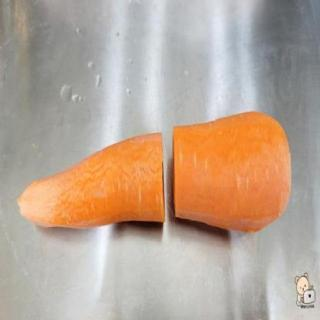carrot: (15, 126, 168, 233), (170, 110, 292, 236)
